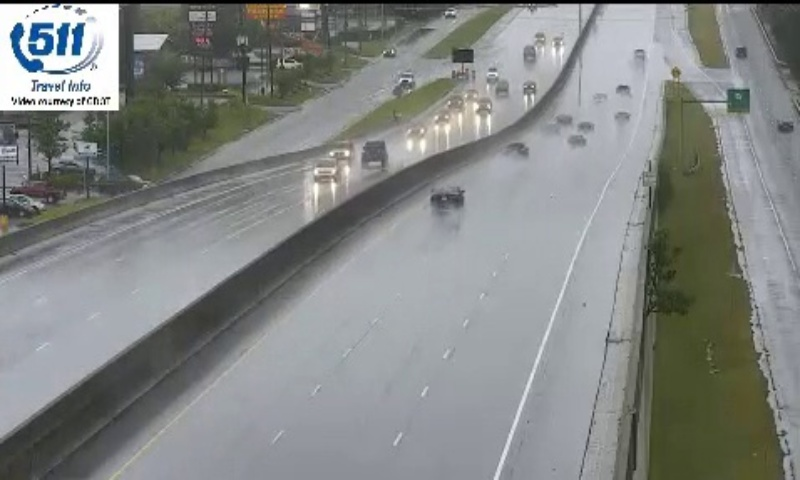car: (430, 184, 461, 209)
